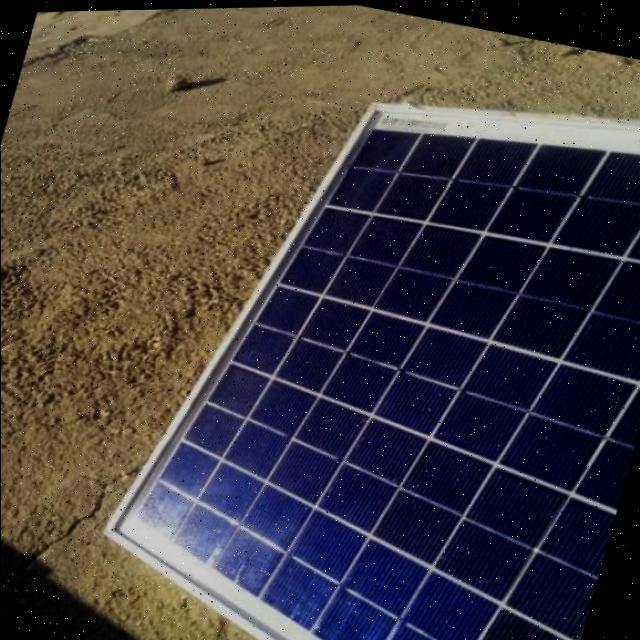Normal Solar Panel: (73, 30, 640, 640)
